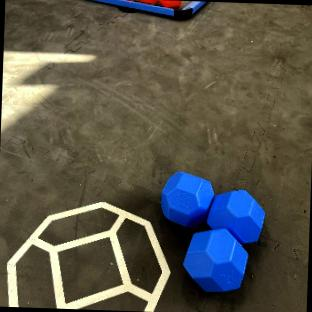V5_BLUE: (185, 228, 246, 291), (206, 190, 264, 242), (161, 171, 213, 226)
